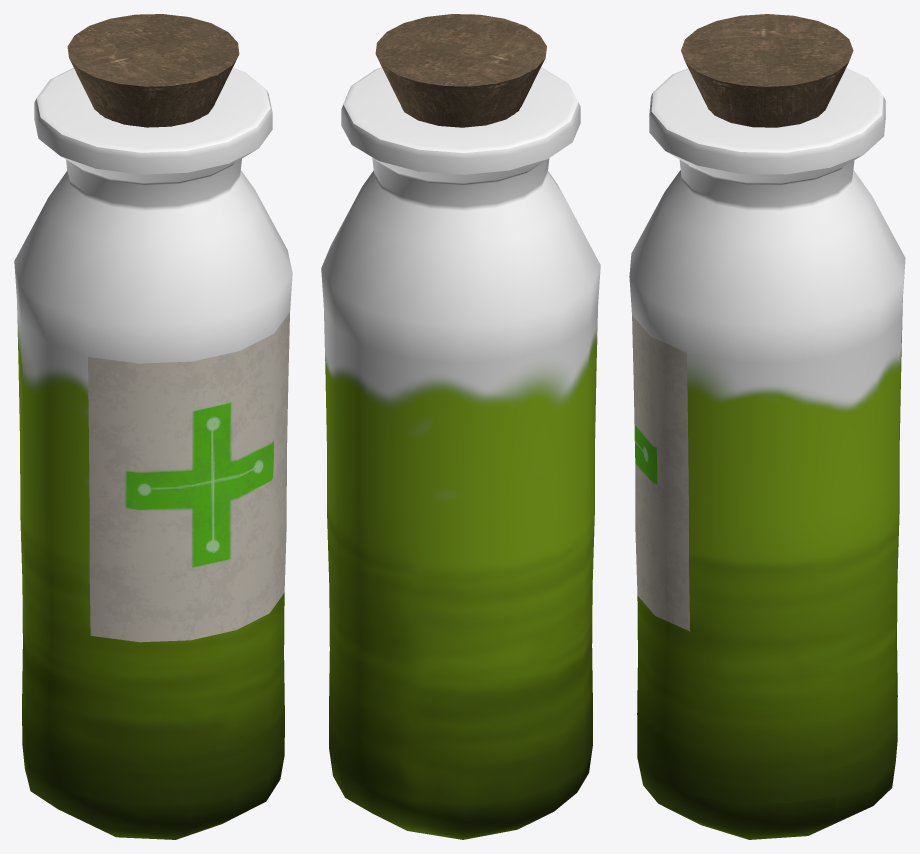
Rendered from ITM_UTILITY_MEDICINE FLASK.fbx.
3 renders of one model, left to right at view 1: azimuth 30°, elevation 25°; view 2: azimuth 150°, elevation 25°; view 3: azimuth 270°, elevation 25°, orthographic.
Parts seen in each view (by area): view 1: flask, flask_lid; view 2: flask, flask_lid; view 3: flask, flask_lid.
Part boxes in pixels (<box>): flask: <box>14,67,292,839</box>; flask_lid: <box>67,14,239,127</box>; flask: <box>321,67,600,839</box>; flask_lid: <box>375,14,546,127</box>; flask: <box>629,68,905,839</box>; flask_lid: <box>681,14,853,127</box>.
Size of the model in its own units: 20.83 by 63.73 by 20.83.
